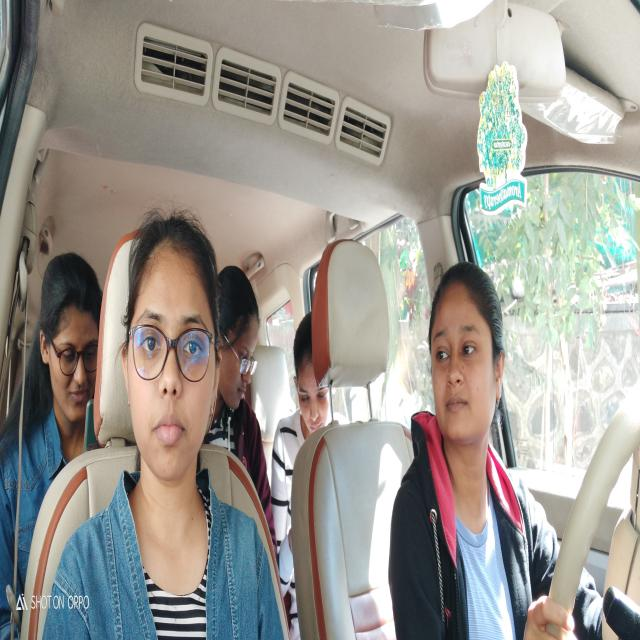LeftRight: (428, 259, 506, 461)
person: (117, 208, 220, 490), (37, 249, 100, 429), (220, 261, 261, 418), (291, 310, 332, 440)
